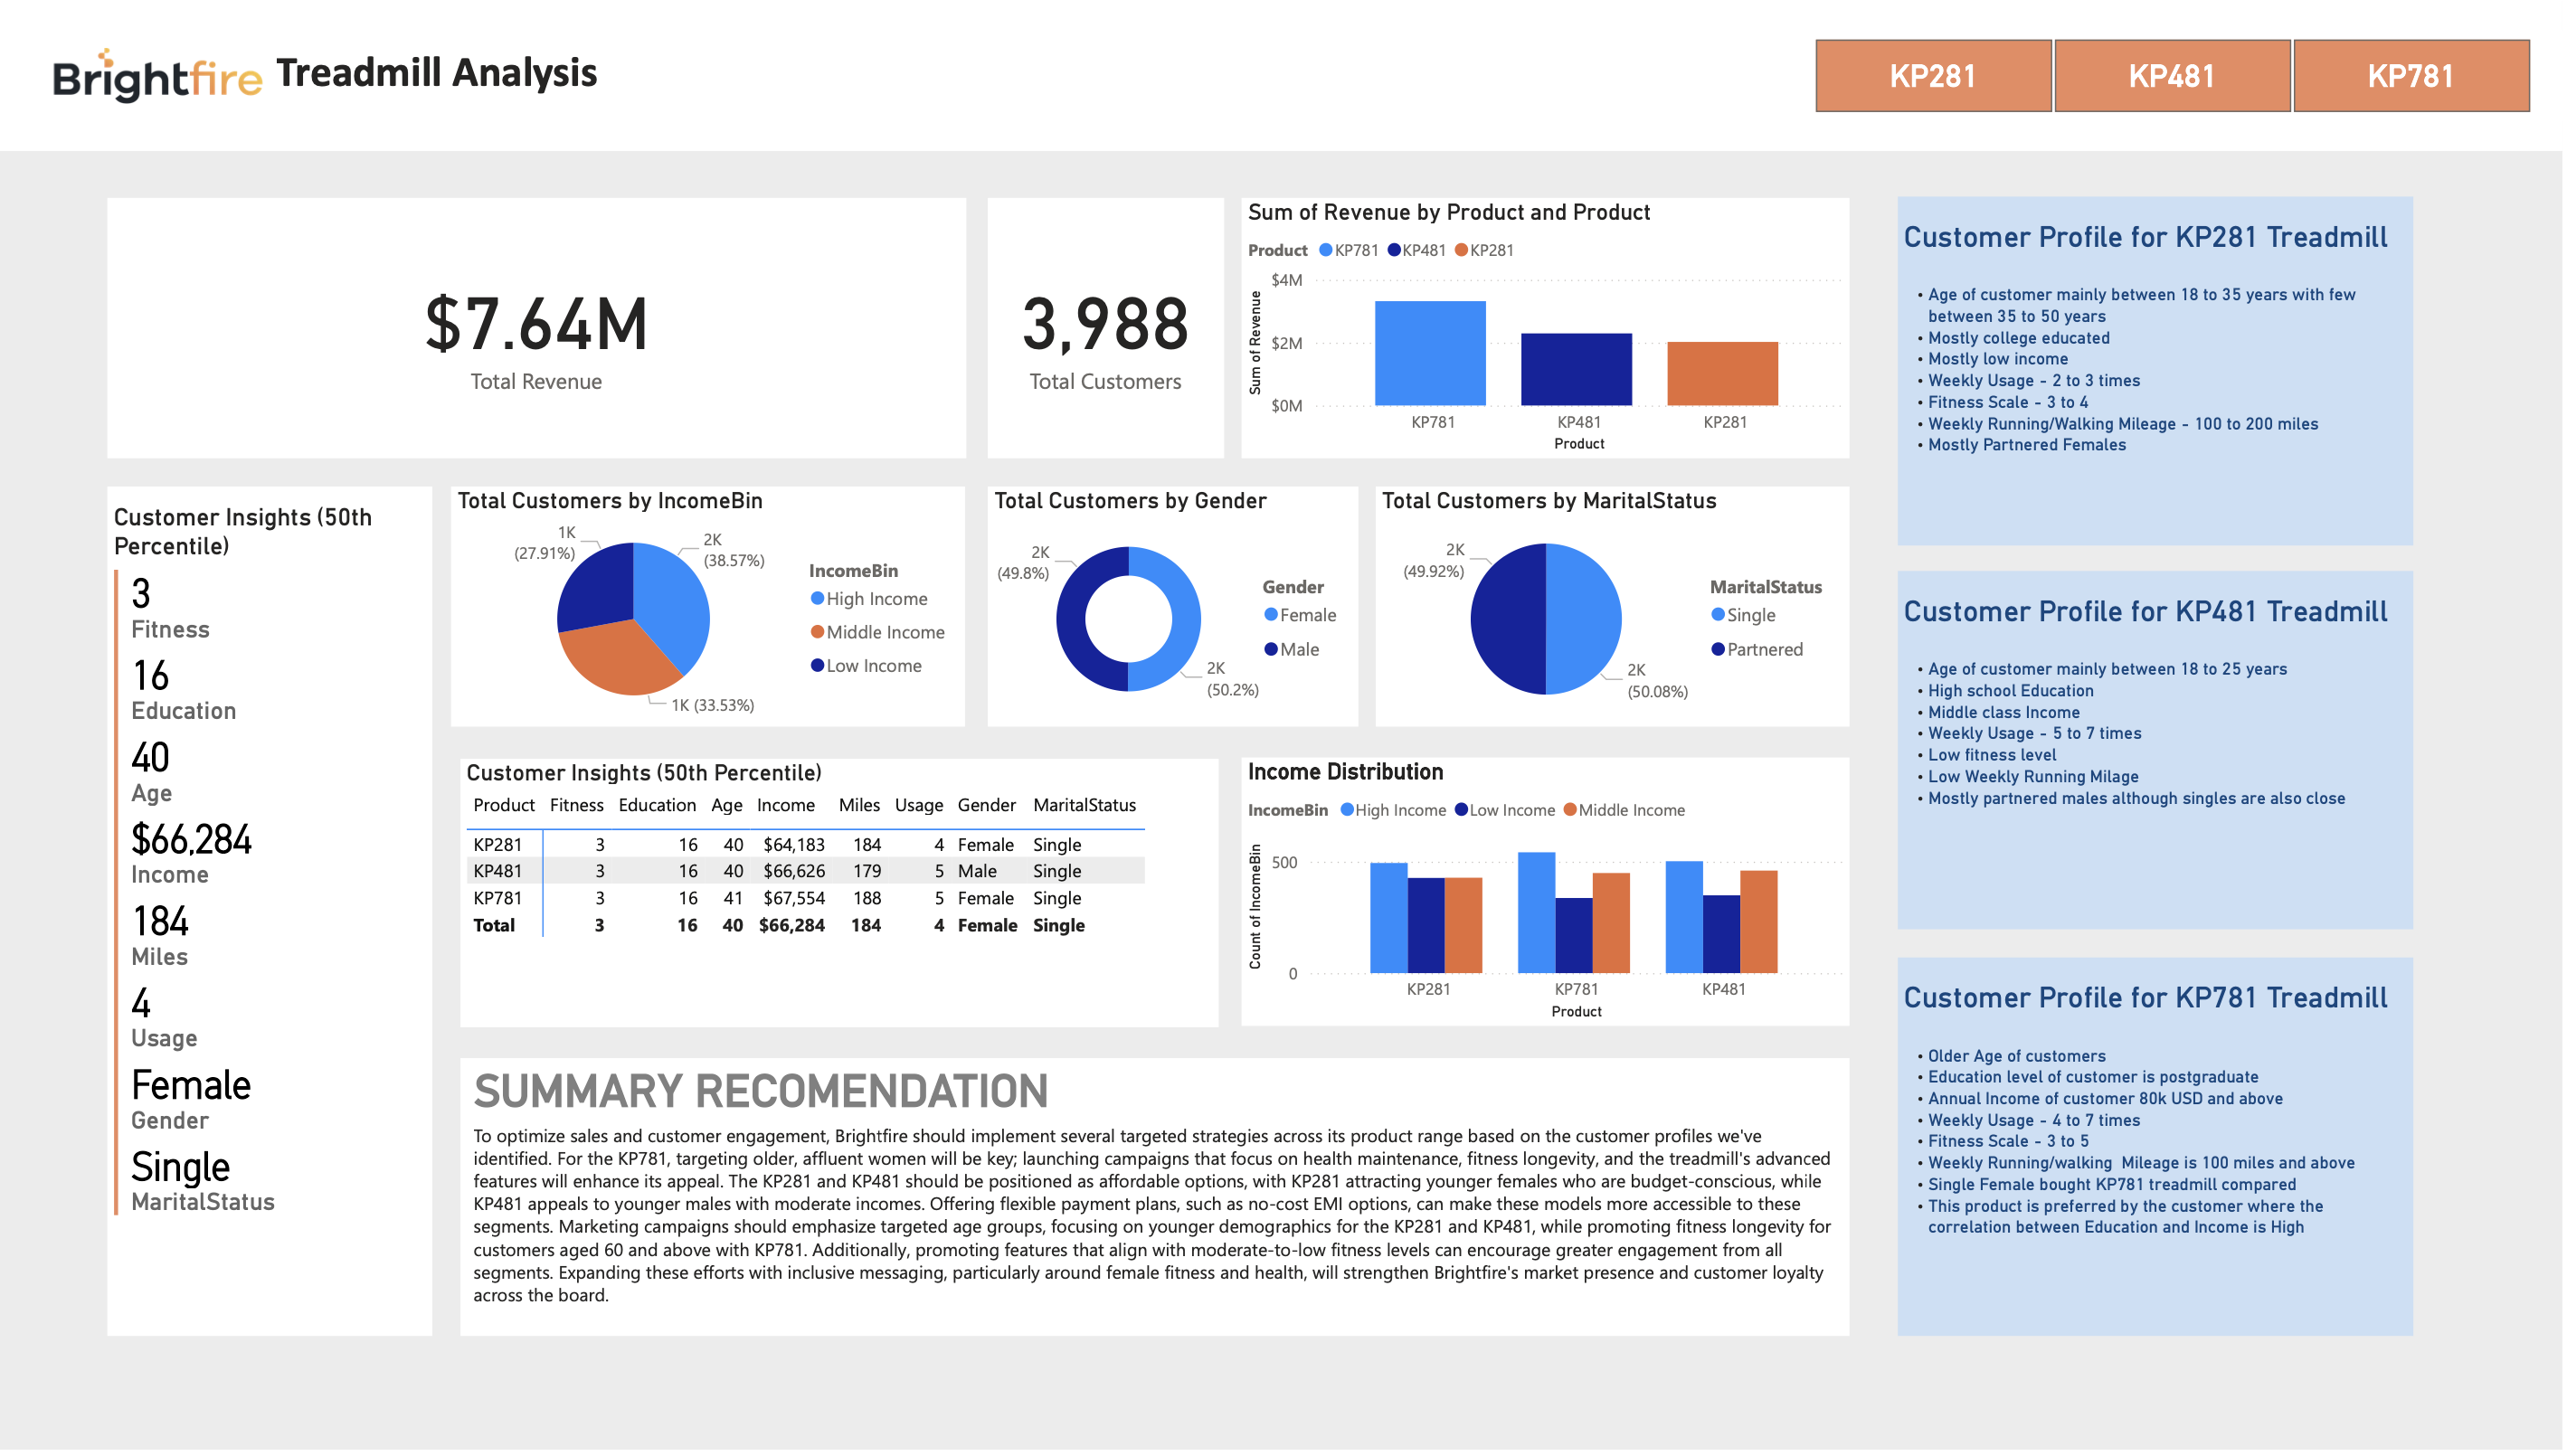

What the dashboard file says about the page in this screenshot:
{"tool":"powerbi","page":{"name":"Dashboard","canvas":[1920,1080],"ordinal":0},"visuals":[{"type":"card","fields":{"Values":["All Measures.Total Customers"]},"box":[747.3,147,176.1,193.5],"z":0},{"type":"pivotTable","title":"Customer Insights (50th Percentile)","fields":{"Values":["All Measures.Median_Fitness","All Measures.Median_Education","All Measures.Median_Age","All Measures.Median_Income","All Measures.Median_Miles","All Measures.Median_Usage","All Measures.Mode_Gender","All Measures.Mode_MaritalStatus"],"Rows":["Brightfire _treadmill_data.Product"]},"box":[353.9,564.7,565,200],"z":1000},{"type":"textbox","title":"Customer Profile for KP281 Treadmill","box":[1424.5,146.1,384.6,260],"z":2000},{"type":"textbox","title":"SUMMARY RECOMENDATION","box":[353.8,788.3,1034.8,206.5],"z":3000},{"type":"pieChart","fields":{"Category":["Brightfire _treadmill_data.MaritalStatus"],"Y":["All Measures.Total Customers"]},"box":[1036.4,362.3,352.2,178.3],"z":4000},{"type":"shape","box":[0,0,1920,112],"z":5000},{"type":"image","box":[46,0,166,112],"z":6000},{"type":"textbox","box":[212,28,268,62],"z":7000},{"type":"columnChart","fields":{"Category":["Product_Portfolio.Product"],"Y":["Sum(Product_Portfolio.Revenue)"],"Series":["Product_Portfolio.Product"]},"box":[936.4,147,452.2,193.5],"z":8000},{"type":"clusteredColumnChart","title":"Income Distribution","fields":{"Category":["Brightfire _treadmill_data.Product"],"Series":["Brightfire_treadmill_data.IncomeBin"],"Y":["CountNonNull(Brightfire_treadmill_data.IncomeBin)"]},"box":[936.4,564.4,452.2,200],"z":9000},{"type":"slicer","fields":{"Values":["Brightfire _treadmill_data.Product"]},"box":[1338,22,582,68],"z":10000},{"type":"textbox","title":"Customer Profile for KP781 Treadmill","box":[1424.5,713.3,384.6,281.5],"z":11000},{"type":"textbox","title":"Customer Profile for KP481 Treadmill","box":[1424.5,425.4,384.6,266.4],"z":12000},{"type":"card","fields":{"Values":["All Measures.Total Revenue"]},"box":[91.5,147,639.1,193.5],"z":13000},{"type":"pieChart","fields":{"Category":["Brightfire_treadmill_data.IncomeBin"],"Y":["All Measures.Total Customers"]},"box":[347.3,362.3,382.6,178.3],"z":14000},{"type":"donutChart","fields":{"Y":["All Measures.Total Customers"],"Category":["Brightfire_treadmill_data.Gender"]},"box":[747.3,362.3,276.1,178.3],"z":15000},{"type":"multiRowCard","title":"Customer Insights (50th Percentile)","fields":{"Values":["All Measures.Median_Fitness","All Measures.Median_Education","All Measures.Median_Age","All Measures.Median_Income","All Measures.Median_Miles","All Measures.Median_Usage","All Measures.Mode_Gender","All Measures.Mode_MaritalStatus"]},"box":[91.5,362.3,241.3,632.6],"z":16000}]}

Visuals, with their boxes in screenshot pixels (x1, y1, x2, y2), scaled from the page's 1920x1080 canvas onto the 2567x1456 screenshot:
card - All Measures.Total Customers: (999,198,1235,459)
"Customer Insights (50th Percentile)" pivotTable: (473,761,1228,1031)
"Customer Profile for KP281 Treadmill" textbox: (1905,197,2419,547)
"SUMMARY RECOMENDATION" textbox: (473,1063,1857,1341)
pieChart - Brightfire _treadmill_data.MaritalStatus x All Measures.Total Customers: (1386,488,1857,729)
shape: (0,0,2566,151)
image: (62,0,283,151)
textbox: (283,38,642,121)
columnChart - Product_Portfolio.Product x Sum(Product_Portfolio.Revenue): (1252,198,1857,459)
"Income Distribution" clusteredColumnChart: (1252,761,1857,1031)
slicer - Brightfire _treadmill_data.Product: (1789,30,2566,121)
"Customer Profile for KP781 Treadmill" textbox: (1905,961,2419,1341)
"Customer Profile for KP481 Treadmill" textbox: (1905,573,2419,932)
card - All Measures.Total Revenue: (122,198,977,459)
pieChart - Brightfire_treadmill_data.IncomeBin x All Measures.Total Customers: (464,488,976,729)
donutChart - All Measures.Total Customers x Brightfire_treadmill_data.Gender: (999,488,1369,729)
"Customer Insights (50th Percentile)" multiRowCard: (122,488,445,1341)
